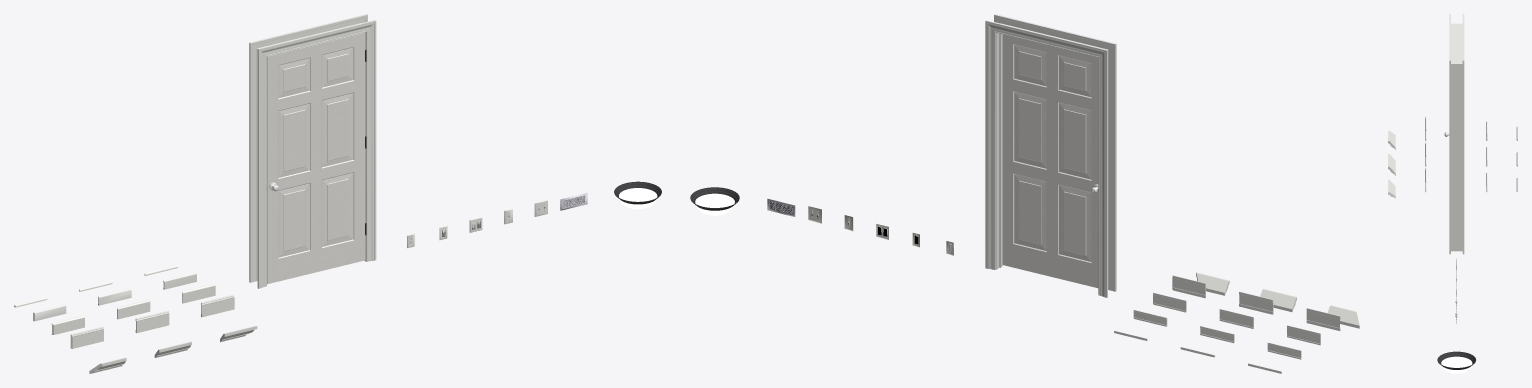
The model's file is interior_trim.glb.
3 views of the same model, side by side, from view 1: azimuth 30°, elevation 25°; view 2: azimuth 150°, elevation 25°; view 3: azimuth 270°, elevation 25° (orthographic). The views are drawn at different scales.
Visible parts, largest first — view 1: Door Six Panel_Trim Door_0, Shoe Molding_Trim_0, Ceiling Light_Ceiling Light Emission_0; view 2: Door Six Panel_Trim Door_0, Shoe Molding_Trim_0, Ceiling Light_Ceiling Light Emission_0; view 3: Shoe Molding_Trim_0, Ceiling Light_Ceiling Light Emission_0, Ceiling Light_Ceiling Light Metal_0.
Boxes of the visible parts, x1,y1,x2,y2 form: Door Six Panel_Trim Door_0: [267, 32, 365, 284]; Shoe Molding_Trim_0: [14, 14, 587, 373]; Ceiling Light_Ceiling Light Emission_0: [619, 188, 657, 209]; Door Six Panel_Trim Door_0: [1002, 34, 1098, 288]; Shoe Molding_Trim_0: [767, 14, 1359, 373]; Ceiling Light_Ceiling Light Emission_0: [695, 193, 734, 215]; Shoe Molding_Trim_0: [1388, 14, 1517, 323]; Ceiling Light_Ceiling Light Emission_0: [1441, 356, 1472, 373]; Ceiling Light_Ceiling Light Metal_0: [1437, 351, 1475, 369].
Bounding box in the file's own units: 5.67 × 2.28 × 1.3.
Materials: 4 (4 with a texture image).
